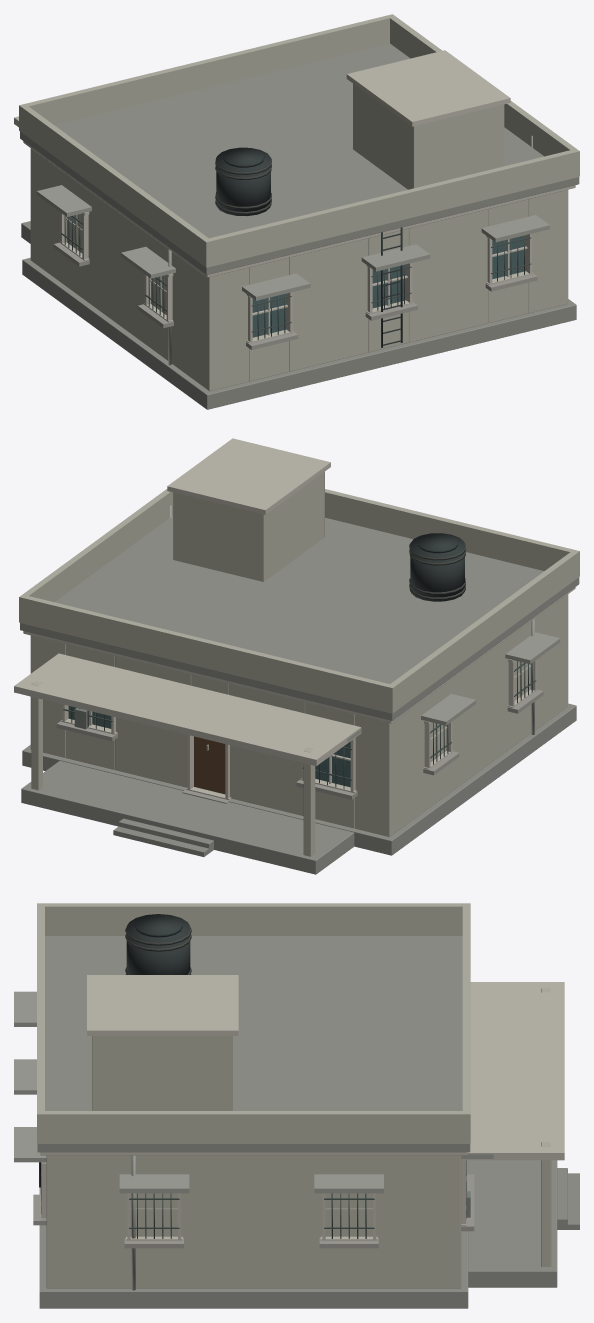
The model's file is kerala_bungalow.glb.
3 views of the same model, one above another, from view 1: azimuth 30°, elevation 25°; view 2: azimuth 150°, elevation 25°; view 3: azimuth 270°, elevation 25° (orthographic). The views are drawn at different scales.
Parts seen in each view (by area): view 1: kerala_bungalow; view 2: kerala_bungalow; view 3: kerala_bungalow.
Boxes of the visible parts, x1=… form: kerala_bungalow: x1=14, y1=14, x2=579, y2=409; kerala_bungalow: x1=14, y1=438, x2=579, y2=874; kerala_bungalow: x1=14, y1=903, x2=579, y2=1308.
Bounding box in the file's own units: 10.83 × 5.51 × 11.2.
